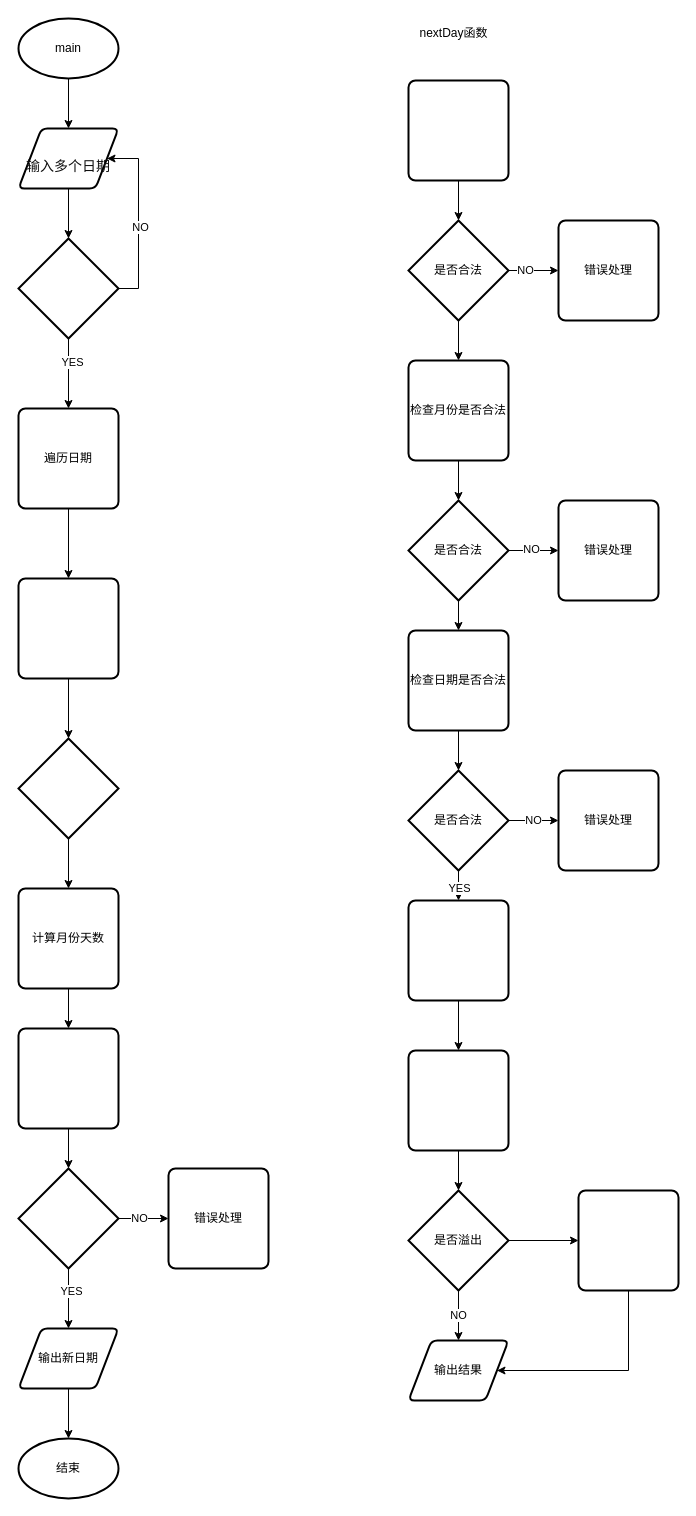
The diagram is 696 pixels wide and 1516 high, and some of its shapes have lost their labels. The shapes that lost their labels are listed below. From the top down, each one's box as (x1, y1, x2, y2) in pixels, then its label:
(407, 79, 509, 181): 检查输入年份
(17, 237, 119, 339): 是否还有更多输入
(17, 577, 119, 679): 调用nextDay函数
(17, 737, 119, 839): 判断闰年
(407, 899, 509, 1001): 增加两天
(17, 1027, 119, 1129): 增加日期并且处理溢出
(407, 1049, 509, 1151): 检查天数是否溢出
(17, 1167, 119, 1269): 日期是否合法
(577, 1189, 679, 1291): 调整月份年份
